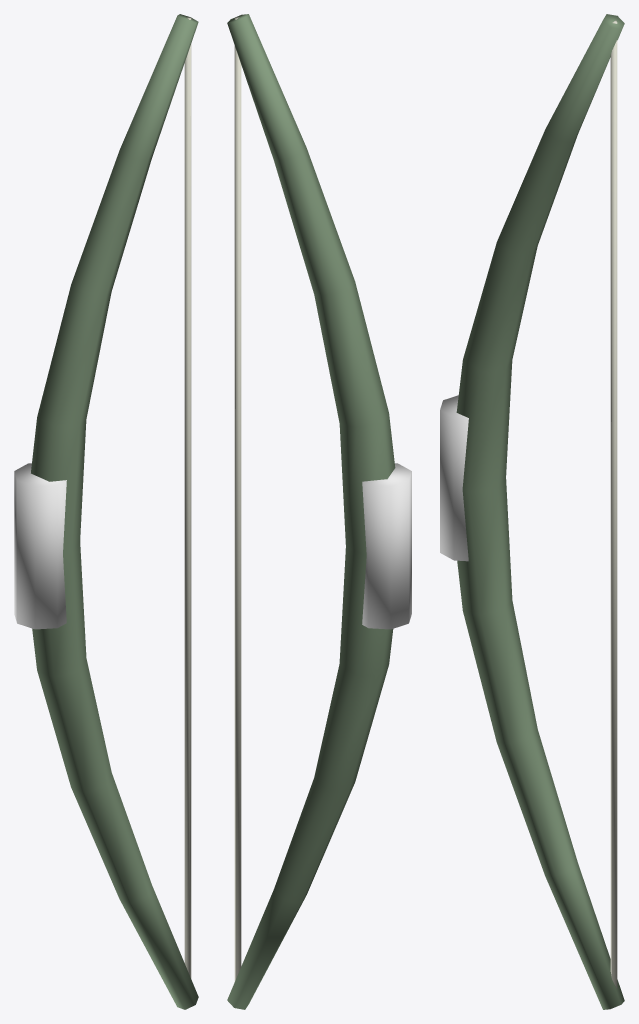
The model's file is tungsten_bow.glb.
3 views of the same model, side by side, from view 1: azimuth 30°, elevation 25°; view 2: azimuth 150°, elevation 25°; view 3: azimuth 330°, elevation 25° (orthographic).
Visible parts, largest first — view 1: tungsten_bow_v0; view 2: tungsten_bow_v0; view 3: tungsten_bow_v0.
Part boxes in pixels (x1=…): tungsten_bow_v0: x1=14, y1=14, x2=198, y2=1009; tungsten_bow_v0: x1=227, y1=14, x2=411, y2=1009; tungsten_bow_v0: x1=440, y1=14, x2=624, y2=1009.
Size of the model in its own units: 0.2105 by 1.11 by 0.06.
